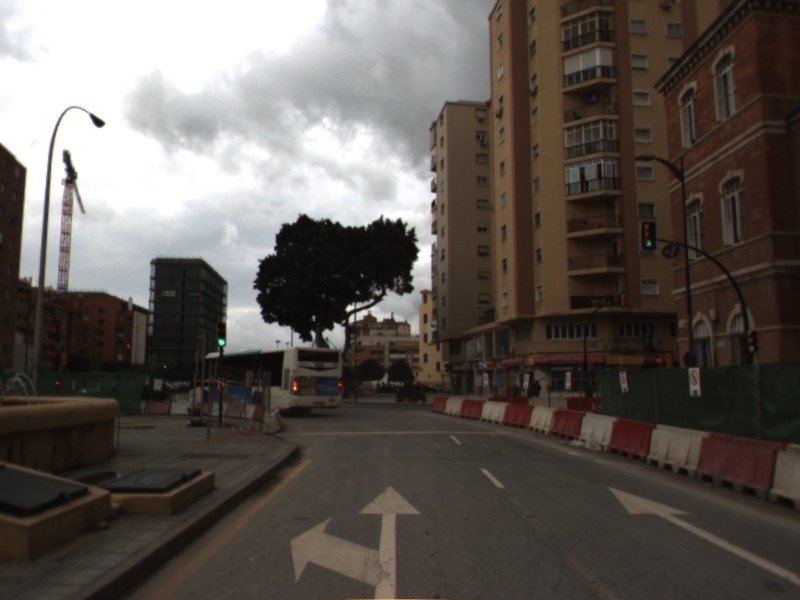STRAIGHT: (604, 483, 800, 585)
STRAIGHT_LEFT: (288, 483, 423, 600)
